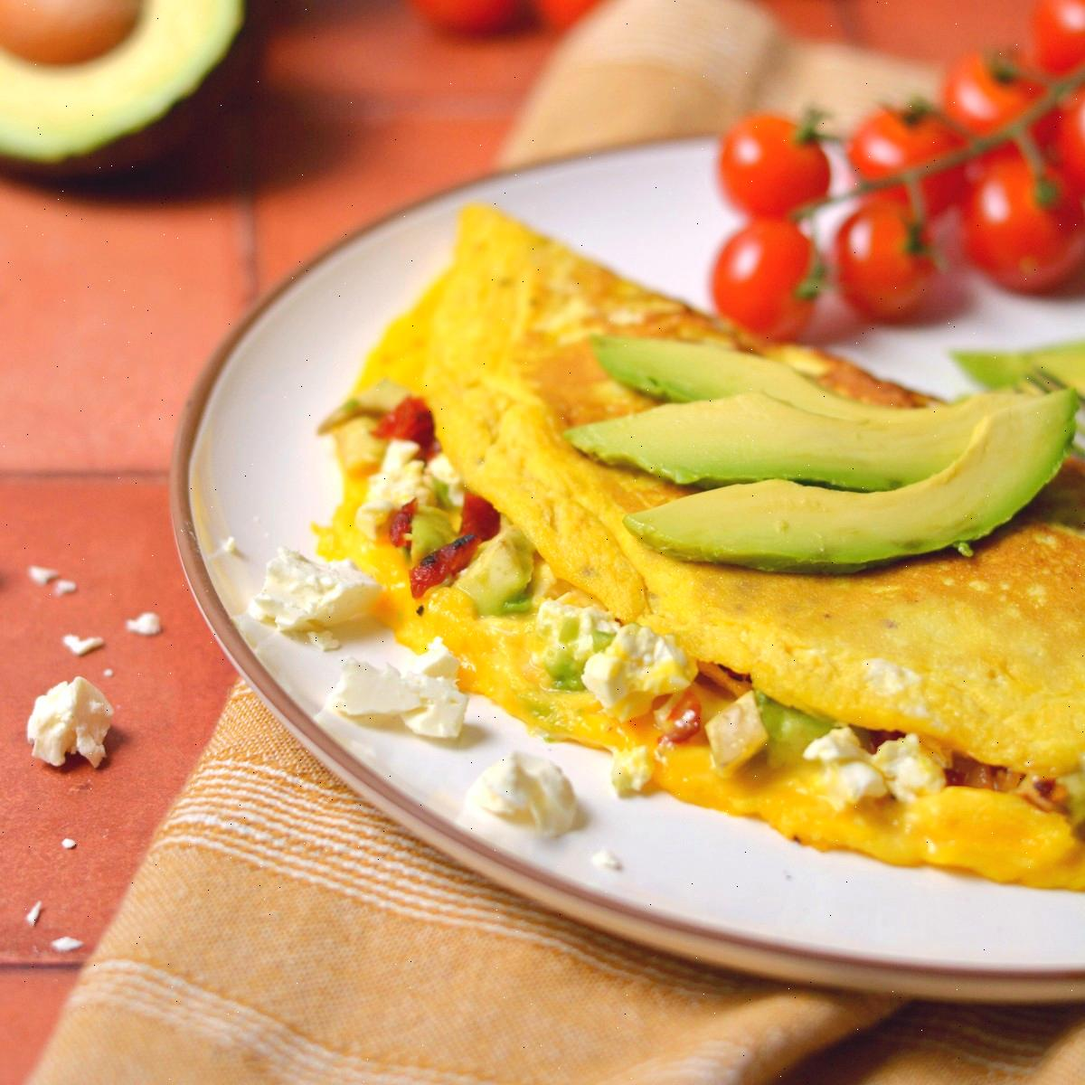omelette: (276, 252, 700, 754)
